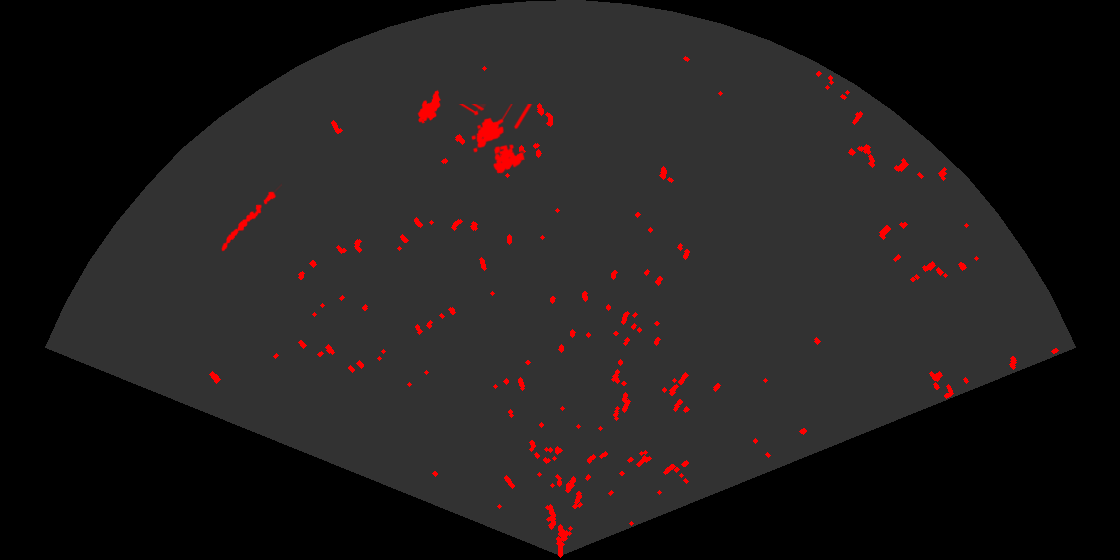AUV: (416, 88, 442, 125)
cage: (457, 104, 534, 175)
chain: (220, 182, 282, 253)
